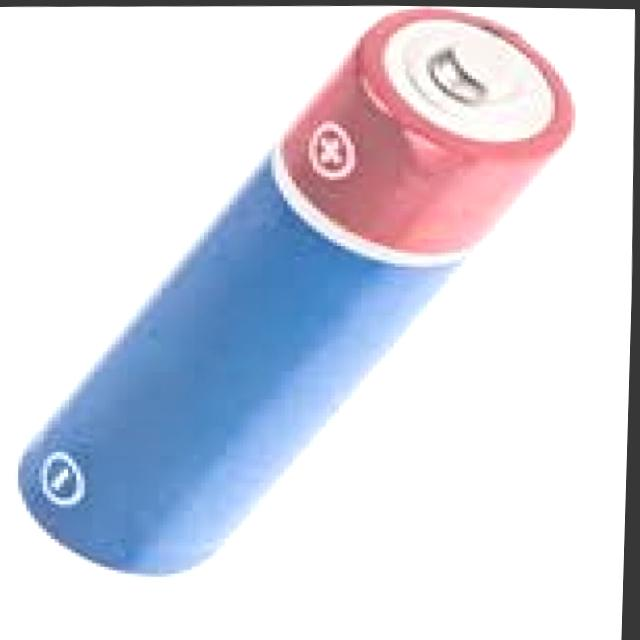B3: (0, 0, 619, 607)
